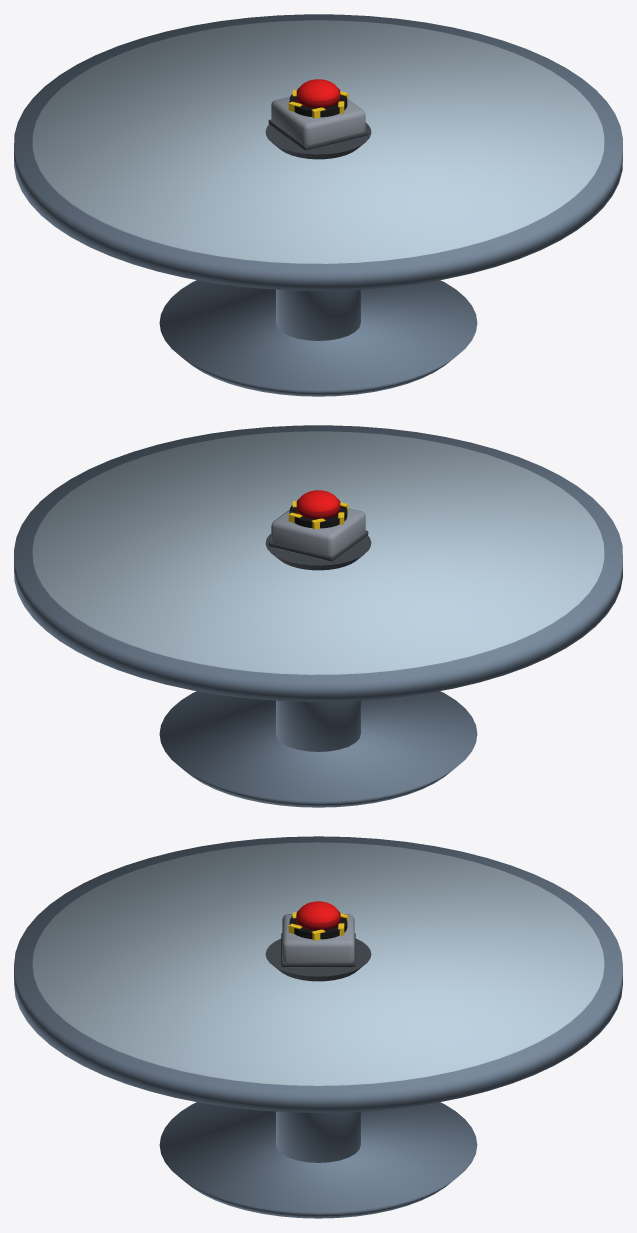
File: meeting_table.obj
3 renders of one model, top to bottom at view 1: azimuth 30°, elevation 25°; view 2: azimuth 150°, elevation 25°; view 3: azimuth 270°, elevation 25°, orthographic.
Size of the model in its own units: 2.3 by 1.05 by 2.3.
